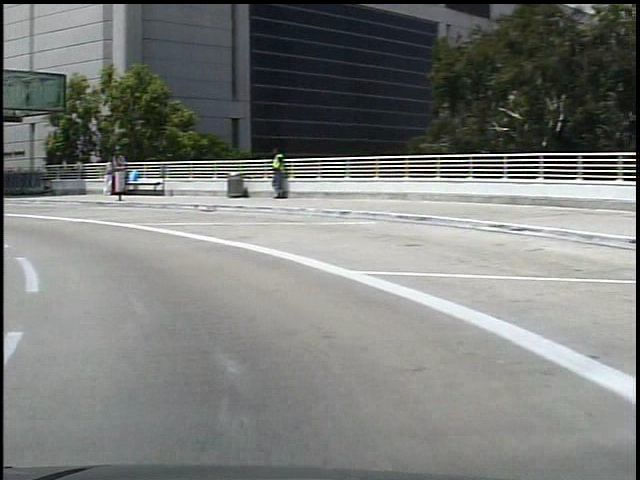person: (261, 144, 283, 201)
